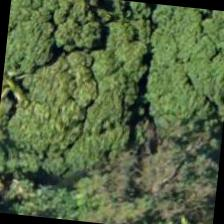Kelapa_Sawit: (0, 33, 63, 129)
